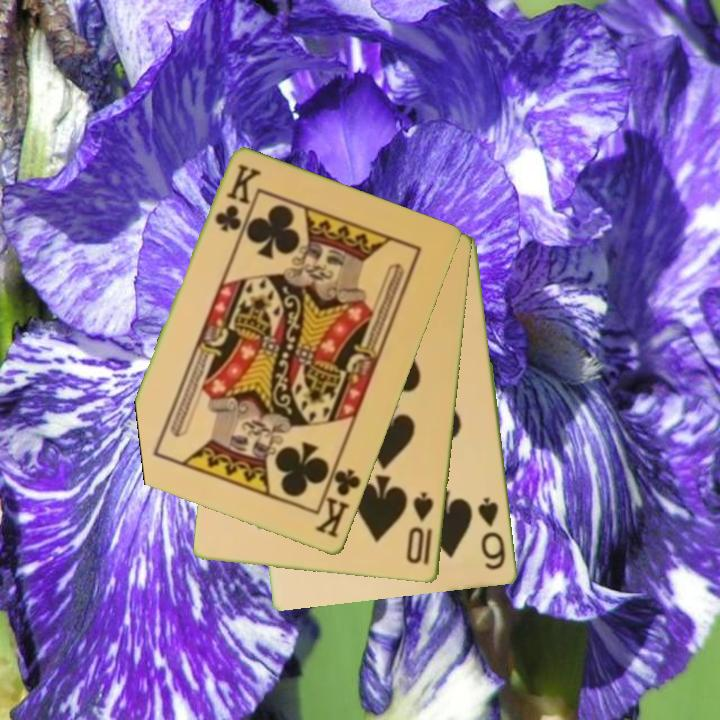10s: (403, 489, 437, 569)
6s: (474, 494, 509, 574)
Kc: (312, 458, 364, 542), (211, 161, 262, 235)
